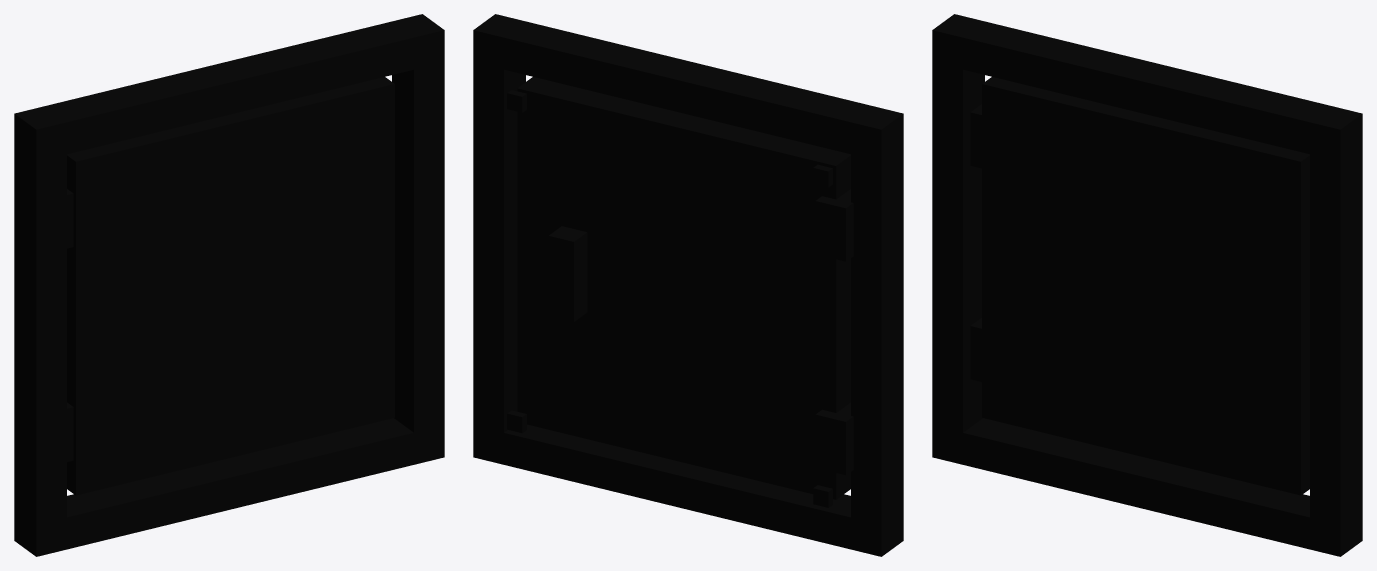
The model's file is lab_hatch.obj.
3 renders of one model, left to right at view 1: azimuth 30°, elevation 25°; view 2: azimuth 150°, elevation 25°; view 3: azimuth 330°, elevation 25°, orthographic.
Bounding box in the file's own units: 0.875 × 0.875 × 0.134.
